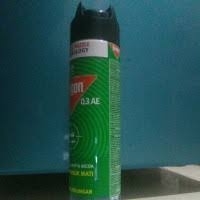metal: (68, 1, 124, 200)
